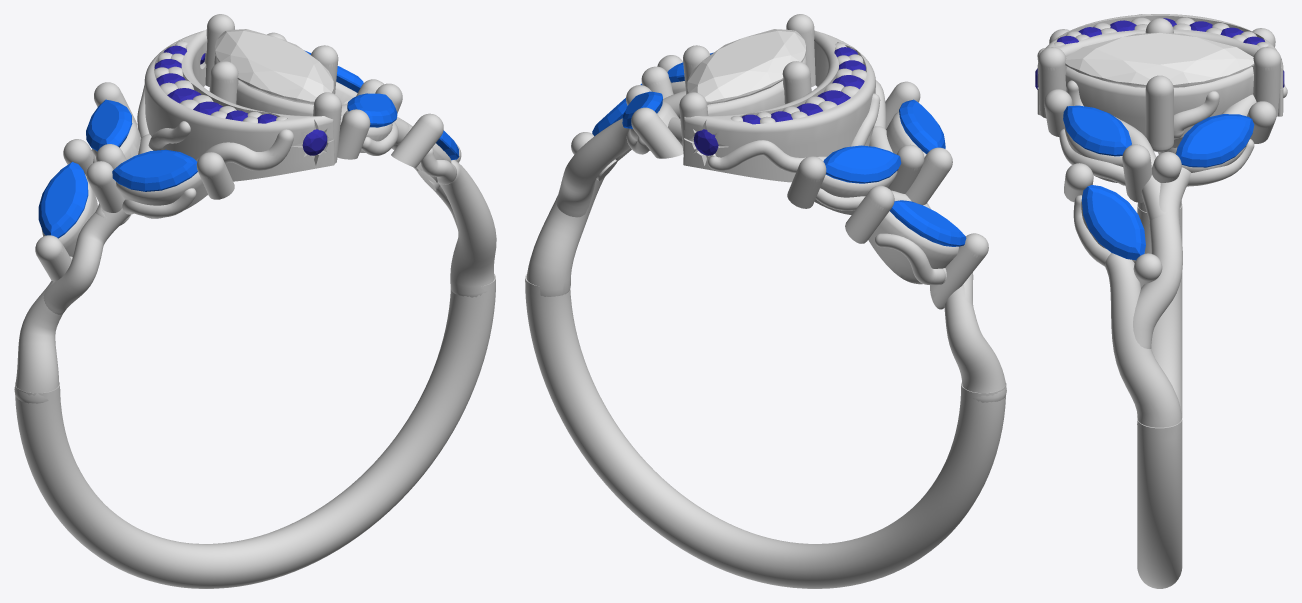
Rendered from AlexV2vines.glb.
3 views of the same model, side by side, from view 1: azimuth 30°, elevation 25°; view 2: azimuth 150°, elevation 25°; view 3: azimuth 270°, elevation 25° (orthographic).
Parts seen in each view (by area): view 1: V2 Alex PT for 3d model, Alex dia for 3d model, Alex sapph for 3d model.004, Alex sapph for 3d model.003, Alex alexandrite for 3d model, Alex sapph for 3d model.001, Alex sapph for 3d model.005; view 2: V2 Alex PT for 3d model, Alex dia for 3d model, Alex sapph for 3d model.001, Alex alexandrite for 3d model, Alex sapph for 3d model.003, Alex sapph for 3d model.004, Alex sapph for 3d model; view 3: V2 Alex PT for 3d model, Alex dia for 3d model, Alex sapph for 3d model.002, Alex sapph for 3d model, Alex sapph for 3d model.005, Alex alexandrite for 3d model.
Boxes of the visible parts, x1,y1,x2,y2 form: V2 Alex PT for 3d model: [14, 14, 496, 588]; Alex dia for 3d model: [215, 29, 333, 104]; Alex sapph for 3d model.004: [112, 149, 197, 191]; Alex sapph for 3d model.003: [38, 162, 88, 238]; Alex alexandrite for 3d model: [154, 45, 327, 155]; Alex sapph for 3d model.001: [86, 99, 132, 151]; Alex sapph for 3d model.005: [347, 93, 397, 127]; V2 Alex PT for 3d model: [525, 14, 1006, 588]; Alex dia for 3d model: [687, 29, 806, 104]; Alex sapph for 3d model.001: [823, 145, 901, 183]; Alex alexandrite for 3d model: [693, 47, 865, 155]; Alex sapph for 3d model.003: [890, 200, 966, 246]; Alex sapph for 3d model.004: [899, 99, 945, 154]; Alex sapph for 3d model: [622, 91, 662, 128]; V2 Alex PT for 3d model: [1037, 14, 1287, 588]; Alex dia for 3d model: [1065, 32, 1254, 87]; Alex sapph for 3d model.002: [1081, 185, 1145, 260]; Alex sapph for 3d model: [1176, 114, 1254, 167]; Alex sapph for 3d model.005: [1063, 105, 1131, 156]; Alex alexandrite for 3d model: [1035, 18, 1284, 89].
Bounding box in the file's own units: 19.53 × 20.62 × 8.93.
